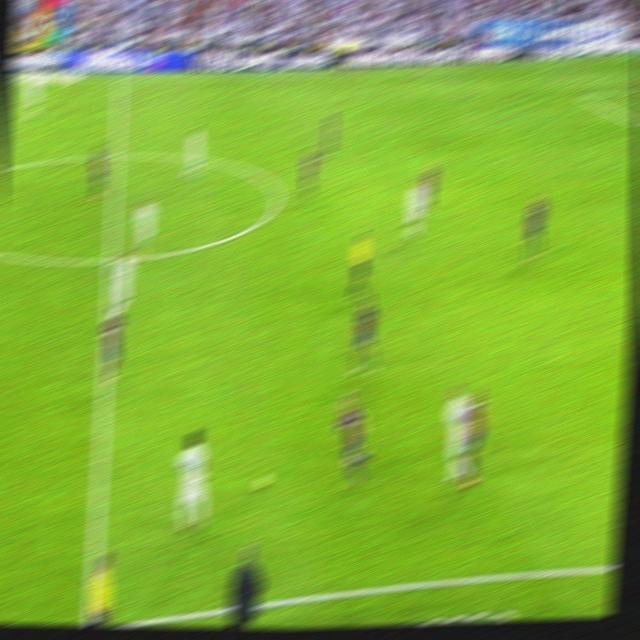halfcircle_bottom: (101, 245, 120, 274)
halfcircle_top: (107, 143, 125, 167)
midline_top_intersection: (112, 72, 127, 86)
